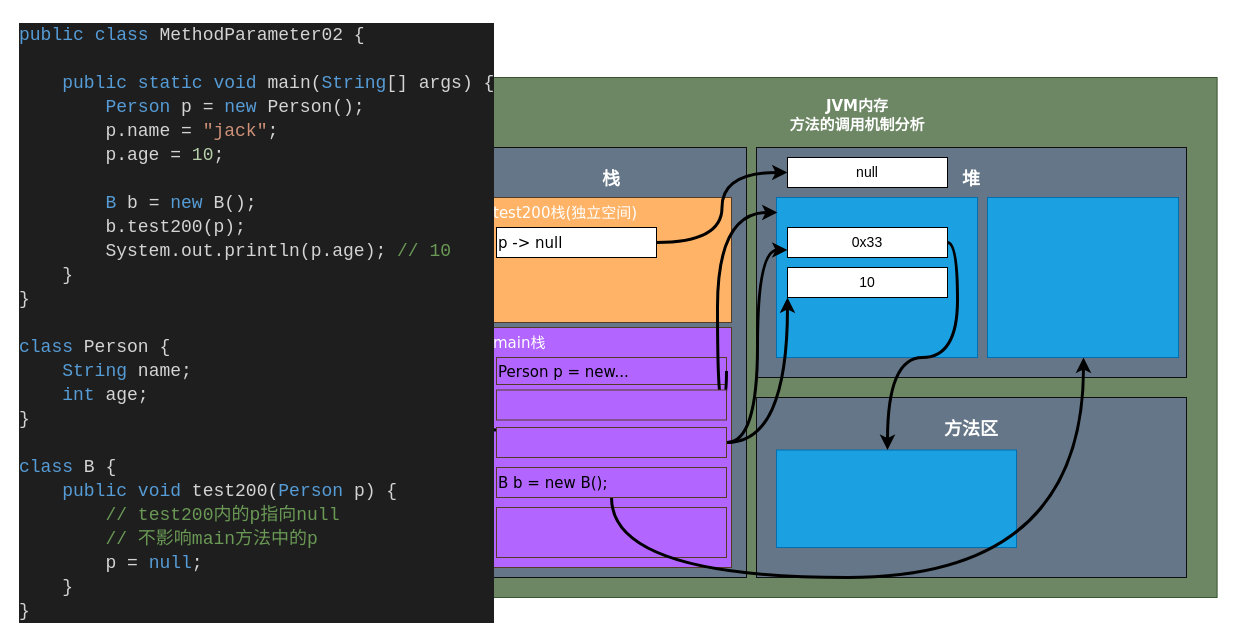
Some shapes in this 1235 by 644 pixel diagram are drawn without their labels. Here are the shapes that lost their labels. From the top down, the box of each, then its label:
(776, 196, 978, 358): New Person 对象
(986, 196, 1178, 358): New B 对象
(496, 389, 726, 420): b.test200(p)
(496, 426, 726, 458): p.name = "jack"; p.age = 10
(776, 449, 1016, 548): 常量池 "jack" -> 0x33
(496, 506, 726, 558): System.out.println(p.age) // 10
